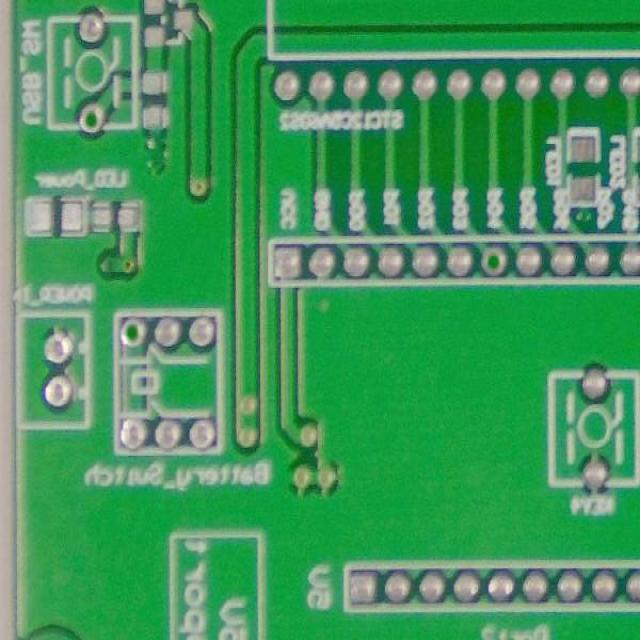missing hole: (76, 98, 111, 142), (477, 242, 515, 282), (116, 315, 150, 353)
